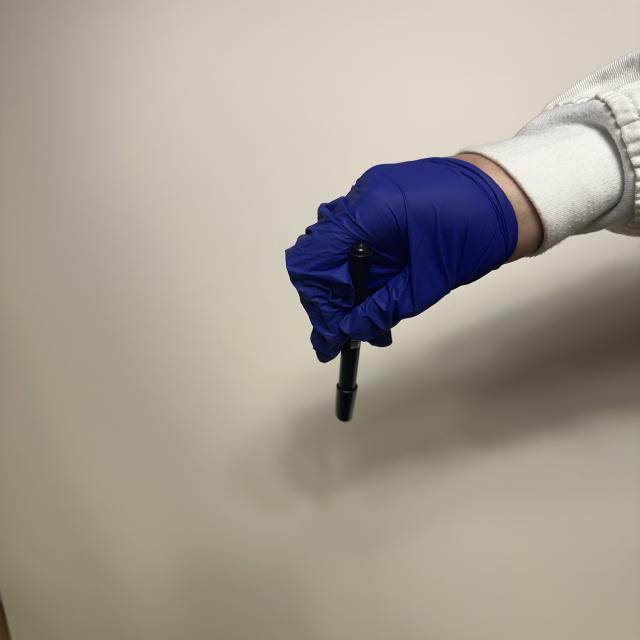glove_partial: (284, 149, 552, 366)
